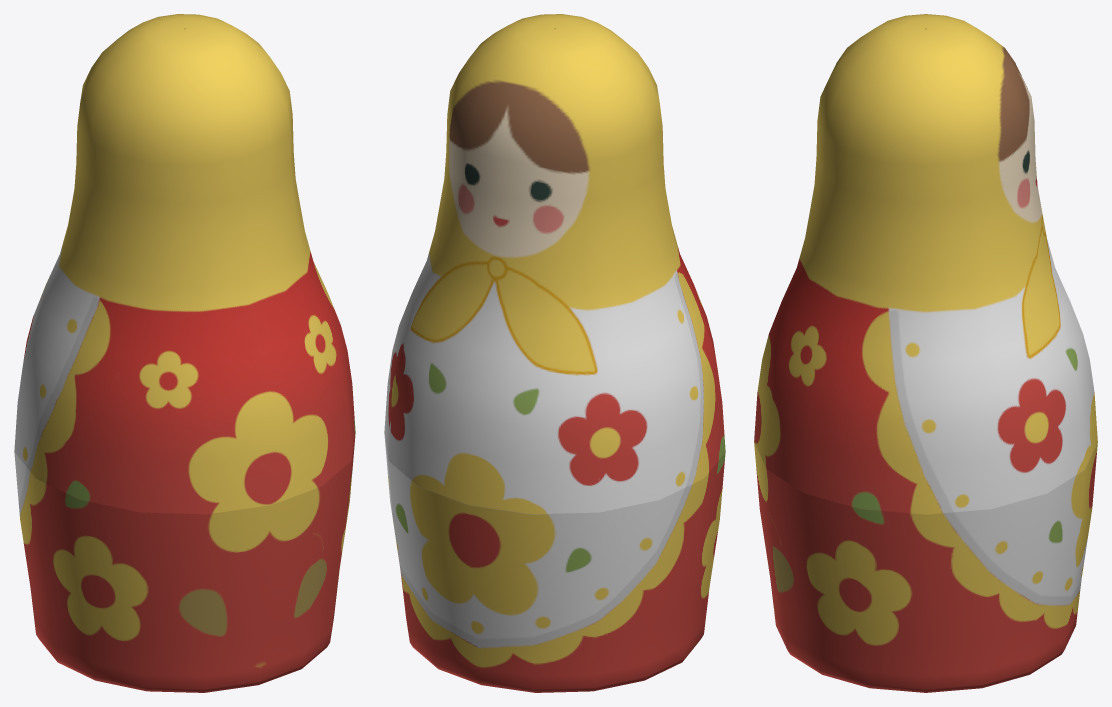
The model's file is Matryoshka_4.fbx.
The picture shows the model from 3 angles, left to right: view 1: azimuth 30°, elevation 25°; view 2: azimuth 150°, elevation 25°; view 3: azimuth 270°, elevation 25°; orthographic projection.
Visible parts, largest first — view 1: Matryoshka_4_Upper, Matryoshka_4_Lower; view 2: Matryoshka_4_Upper, Matryoshka_4_Lower; view 3: Matryoshka_4_Upper, Matryoshka_4_Lower.
Part boxes in pixels (<box>): Matryoshka_4_Upper: <box>14,14,355,514</box>; Matryoshka_4_Lower: <box>14,436,355,692</box>; Matryoshka_4_Upper: <box>384,14,725,514</box>; Matryoshka_4_Lower: <box>384,436,725,692</box>; Matryoshka_4_Upper: <box>754,14,1097,514</box>; Matryoshka_4_Lower: <box>754,442,1097,692</box>.
Bounding box in the file's own units: 294 × 571 × 294.
